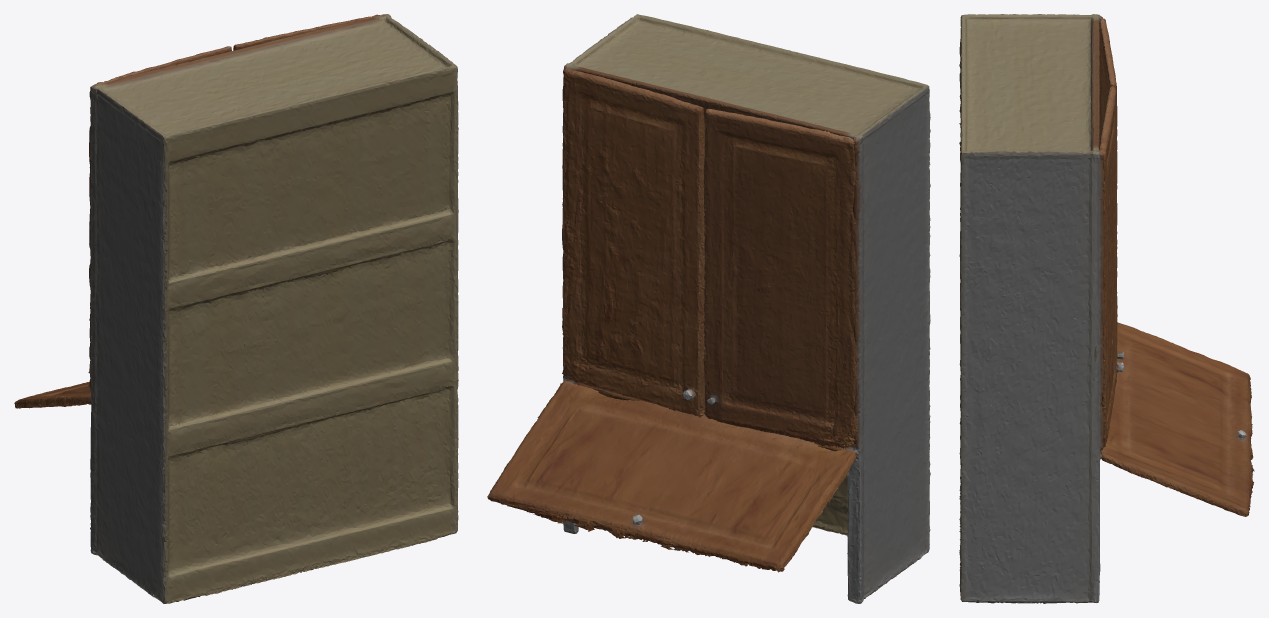
The model's file is storage_45503.glb.
The picture shows the model from 3 angles, left to right: view 1: azimuth 30°, elevation 25°; view 2: azimuth 150°, elevation 25°; view 3: azimuth 270°, elevation 25°; orthographic projection. The views are drawn at different scales.
Visible parts, largest first — view 1: storage_45503_start_0, storage_45503_start_1, storage_45503_start_2, storage_45503_start_3; view 2: storage_45503_start_0, storage_45503_start_2, storage_45503_start_3, storage_45503_start_1; view 3: storage_45503_start_0, storage_45503_start_1, storage_45503_start_3, storage_45503_start_2.
Part boxes in pixels (<box>): storage_45503_start_0: <box>89,14,458,603</box>; storage_45503_start_1: <box>14,382,91,408</box>; storage_45503_start_2: <box>88,46,231,377</box>; storage_45503_start_3: <box>233,14,381,50</box>; storage_45503_start_0: <box>562,14,930,603</box>; storage_45503_start_2: <box>703,108,857,449</box>; storage_45503_start_3: <box>562,69,705,417</box>; storage_45503_start_1: <box>487,381,856,572</box>; storage_45503_start_0: <box>959,14,1105,603</box>; storage_45503_start_1: <box>1100,322,1254,516</box>; storage_45503_start_3: <box>1094,86,1123,449</box>; storage_45503_start_2: <box>1099,18,1123,359</box>.
Size of the model in its own units: 1.1 by 1.65 by 0.9733.
